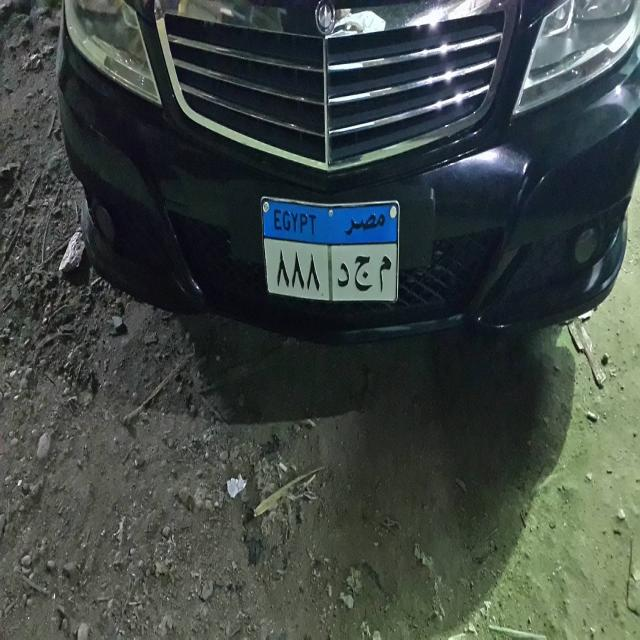License Plate: (260, 195, 400, 306)
